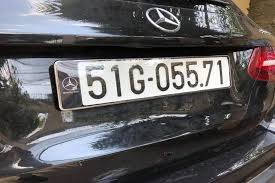number-plate: (77, 59, 227, 99)
